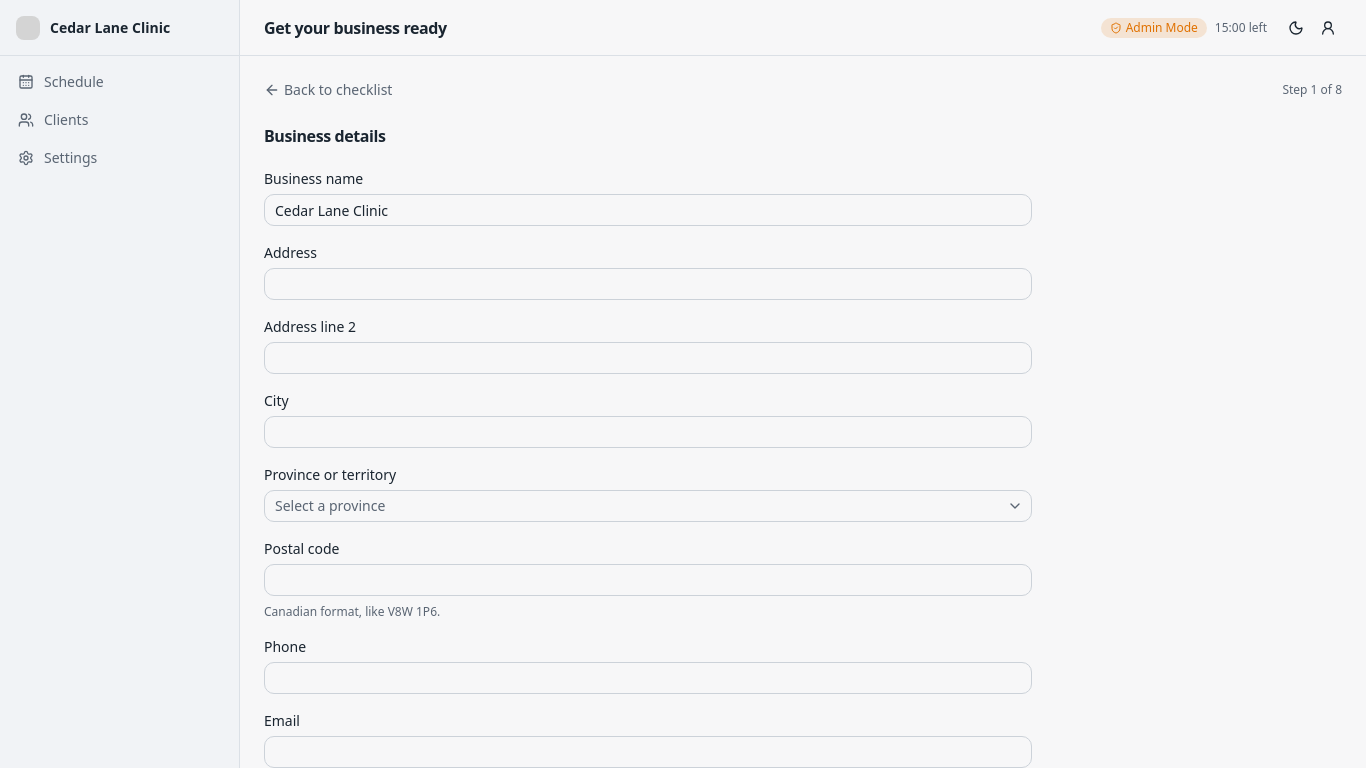
Test: the link back to the checklist goes Home
This screenshot has width=1366, height=768.
Expected: the heading "Business details" is shown, top-left (264, 125), bottom-right (386, 147)
Click the link "Back to checklist" at (328, 90), box top-left (264, 80), bottom-right (392, 100)
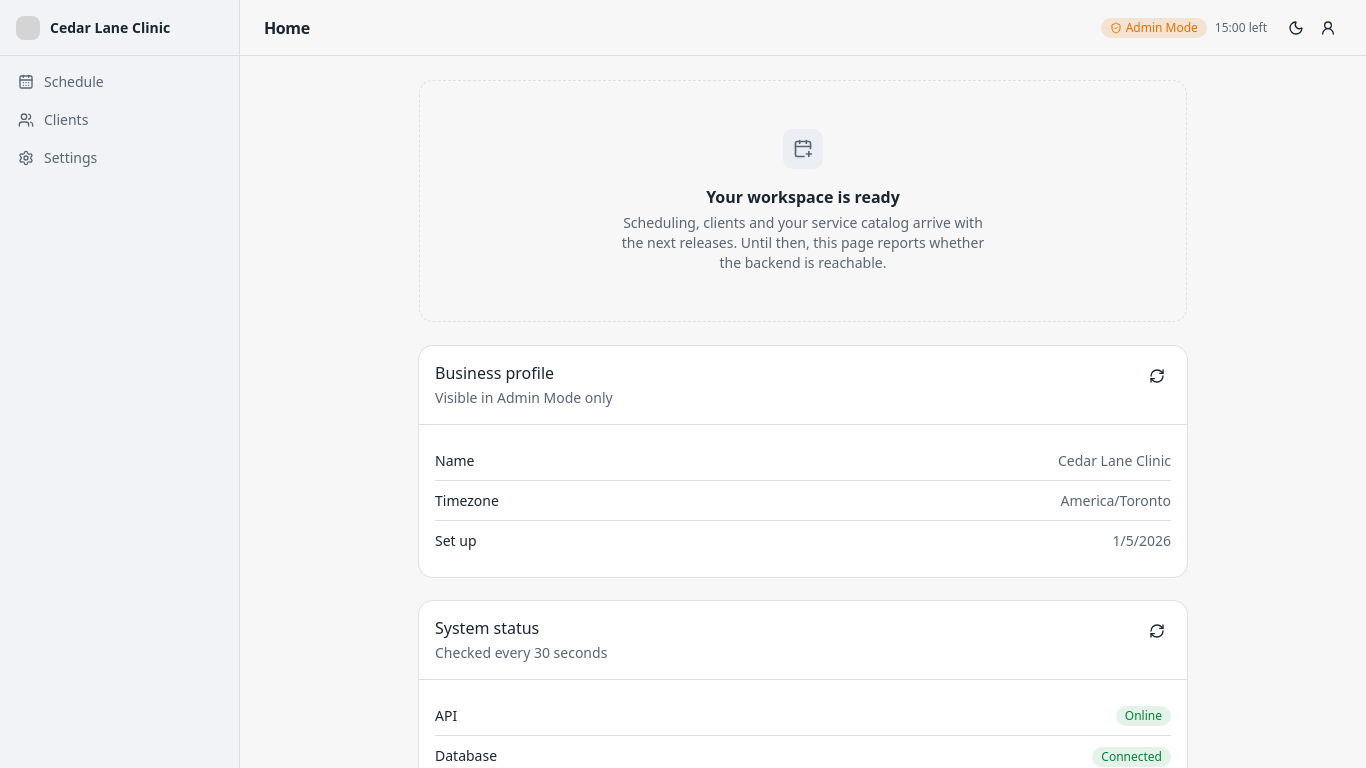
Now the heading "Your workspace is ready" is shown, box top-left (706, 185), bottom-right (900, 209)
